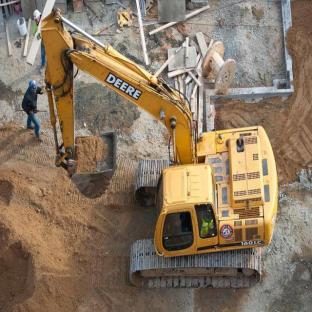ExcavationMachinery: (35, 1, 296, 292)
